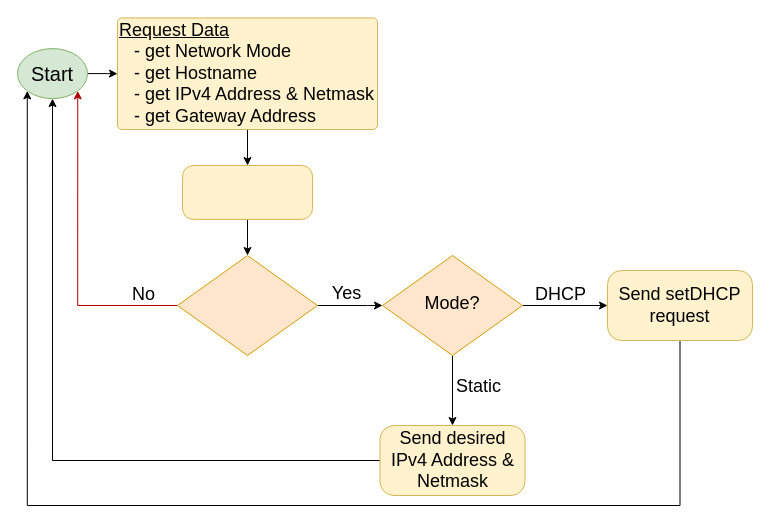
Some shapes in this 770 by 531 pixel diagram are drawn without their labels. Each missing label, with the box of its shape:
Display Data on OLED: (182, 164, 312, 219)
OK button pressed?: (176, 254, 318, 356)
